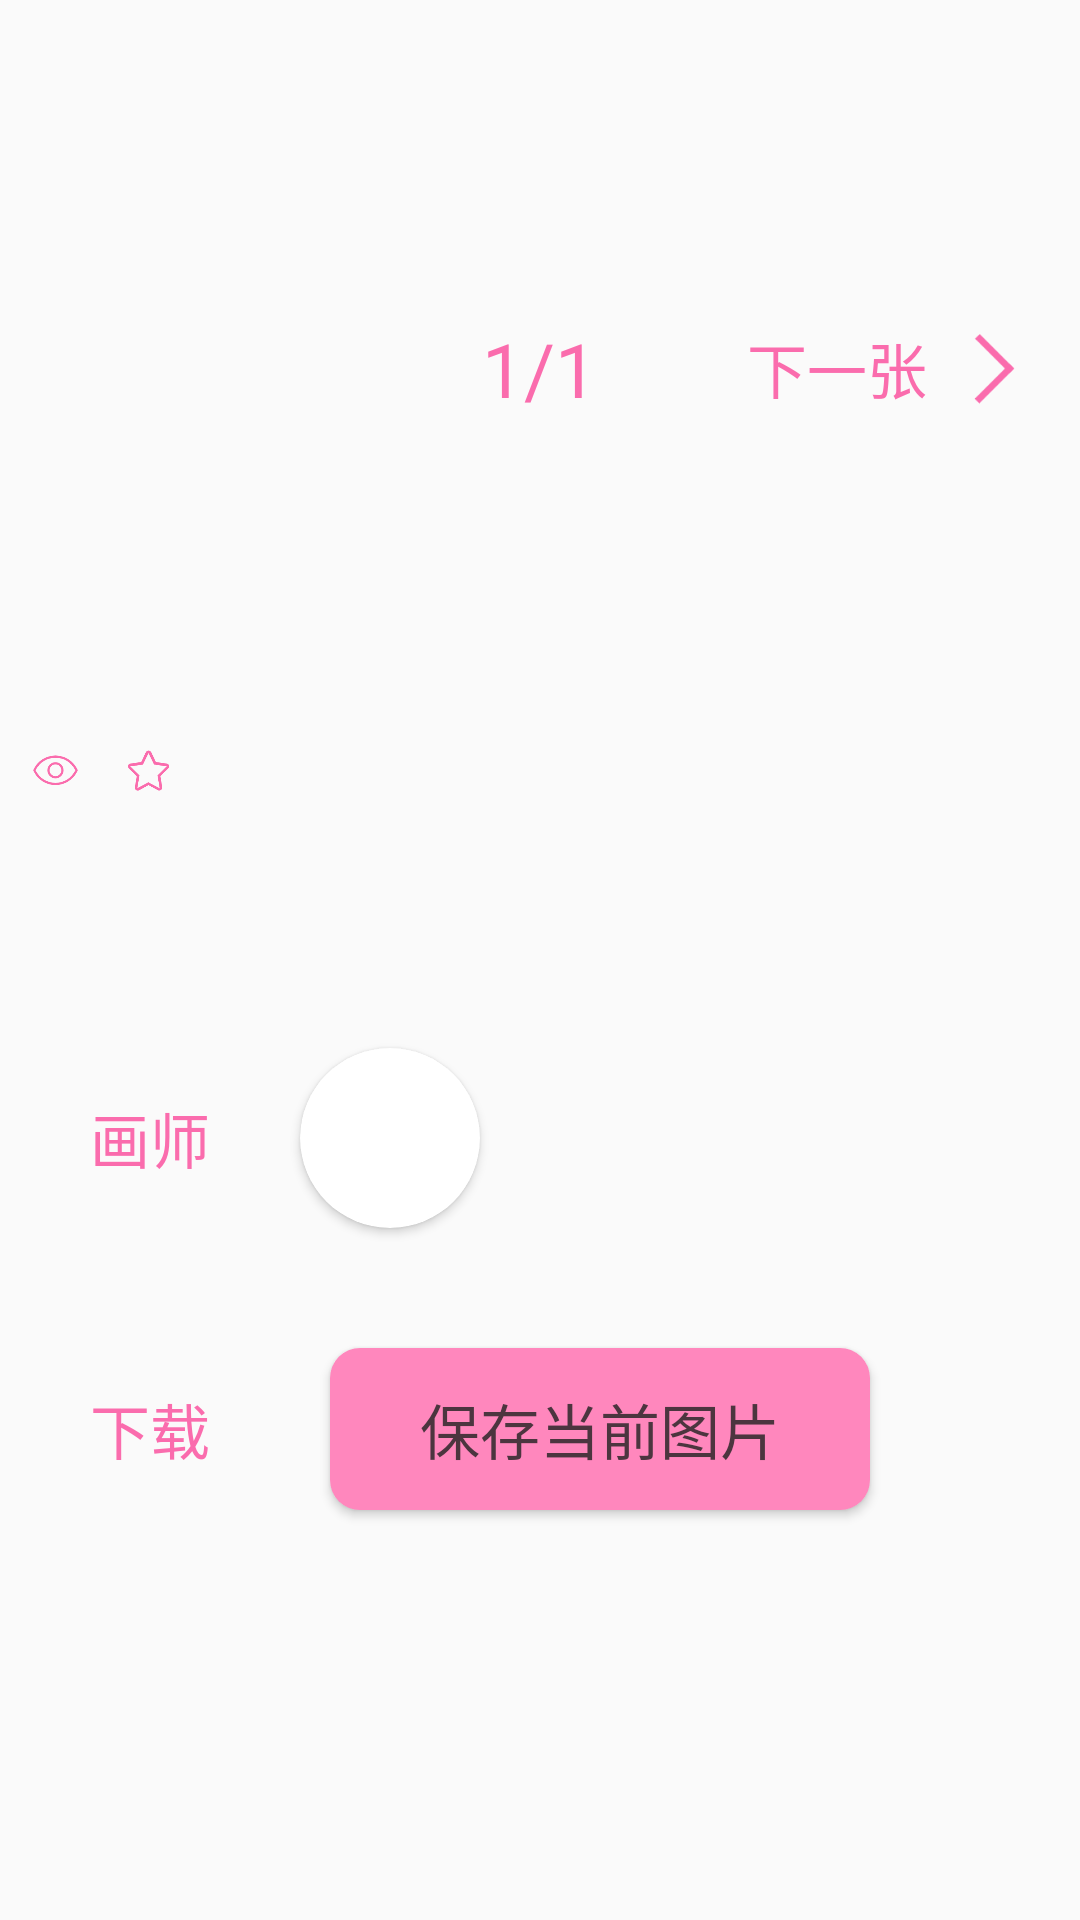

Where icons sit on this 1080 × 1920 app screen, as (x1, y1, x2, y2):
bookmark: (128, 750, 169, 791)
view: (33, 755, 78, 785)
